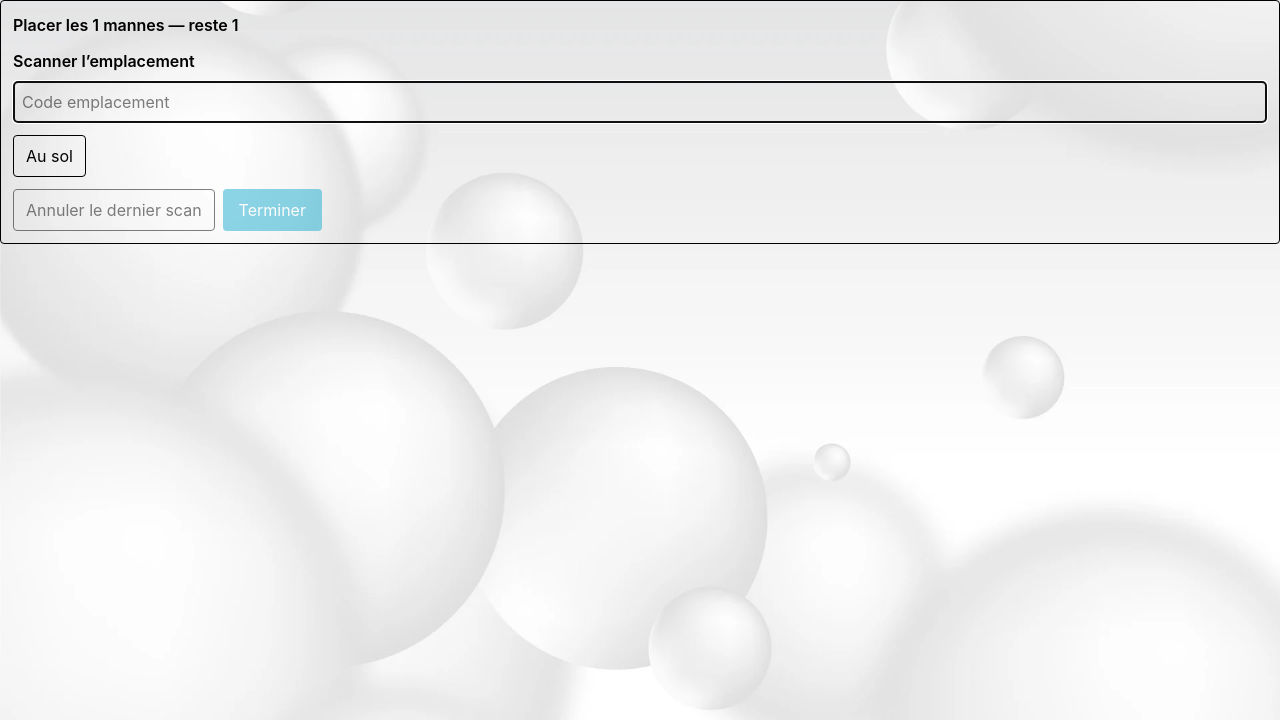
Test: PlacementMannes › scan d’une étagère occupée par un autre client → refus
Type "A1G" into the field with placeholder "Code emplacement" at (640, 102), box [13,81,1267,123]
Then press Enter
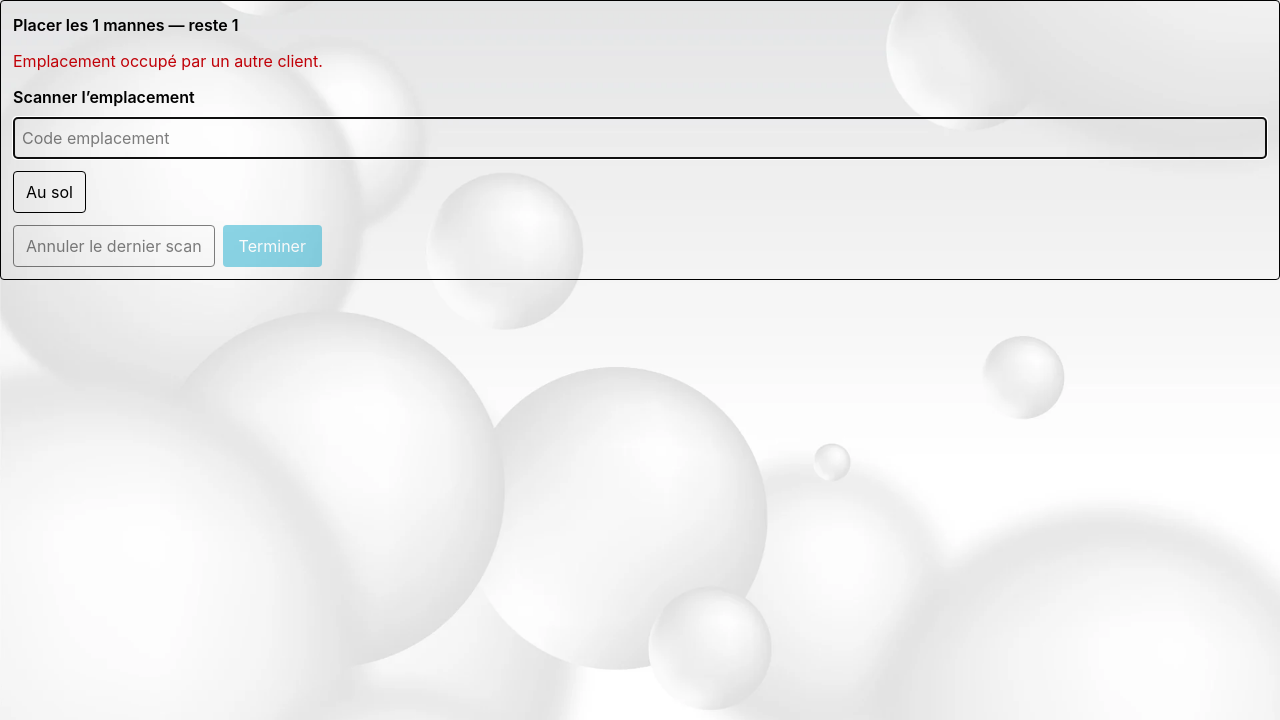
Expected: the text "Placer les 1 mannes — reste 1" is shown, [13,15,239,35]
Expected: the text "Emplacement occupé par un autre client." is shown, [13,51,323,71]
